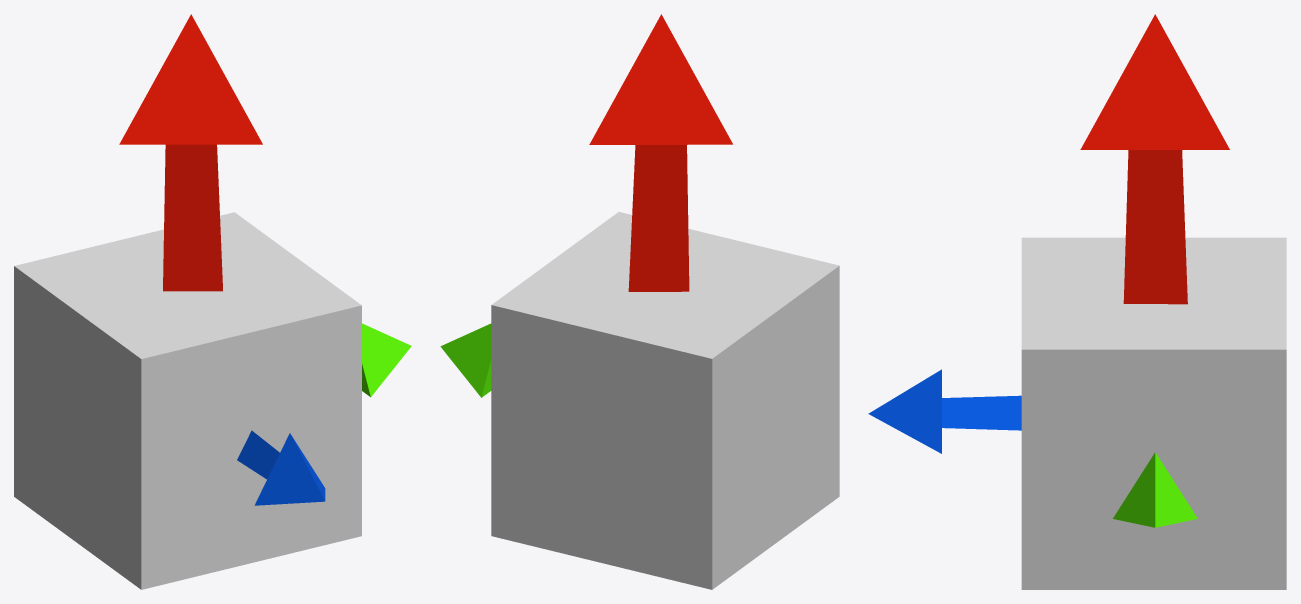
Rendered from pathNode.fbx.
The picture shows the model from 3 angles, left to right: view 1: azimuth 30°, elevation 25°; view 2: azimuth 150°, elevation 25°; view 3: azimuth 270°, elevation 25°; orthographic projection. The views are drawn at different scales.
Visible parts, largest first — view 1: pathNode; view 2: pathNode; view 3: pathNode.
Part boxes in pixels (x1,y1,x2,y2): pathNode: [14, 14, 411, 589]; pathNode: [440, 14, 839, 589]; pathNode: [868, 14, 1286, 589].
Size of the model in its own units: 294 by 420 by 306.
1 material, 1 textured.
